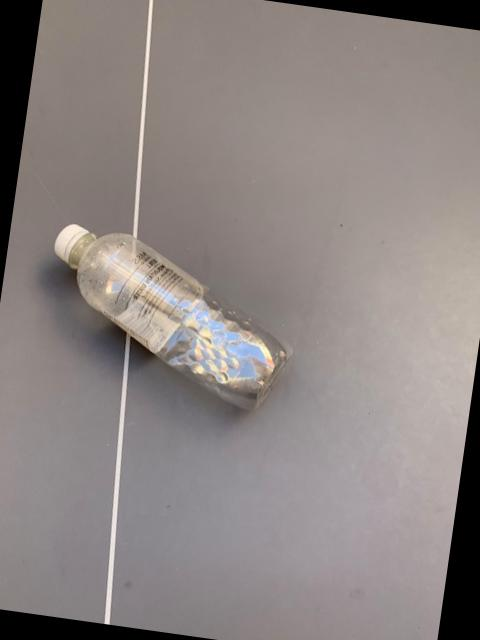plastic: (56, 224, 292, 408)
